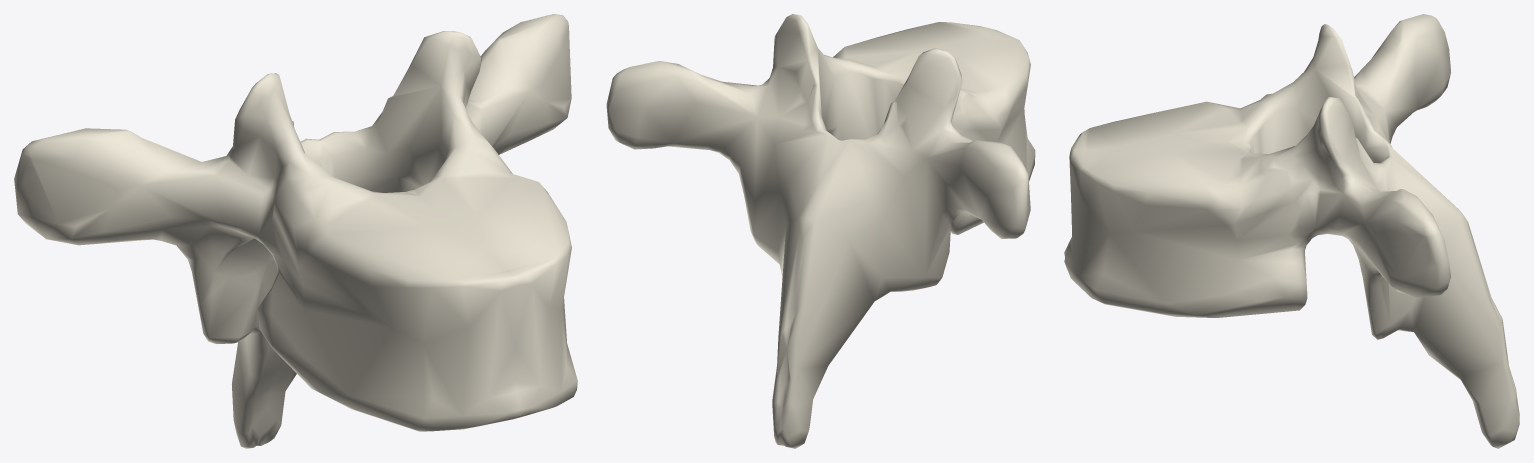
3 renders of one model, left to right at view 1: azimuth 30°, elevation 25°; view 2: azimuth 150°, elevation 25°; view 3: azimuth 270°, elevation 25°, orthographic. The views are drawn at different scales.
Visible parts, largest first — view 1: ZA_fe40150f8e263b25; view 2: ZA_fe40150f8e263b25; view 3: ZA_fe40150f8e263b25.
Boxes of the visible parts, x1,y1,x2,y2 form: ZA_fe40150f8e263b25: [14, 14, 577, 448]; ZA_fe40150f8e263b25: [606, 14, 1035, 448]; ZA_fe40150f8e263b25: [1064, 14, 1519, 448].
Bounding box in the file's own units: 0.0759 × 0.0621 × 0.0668.
